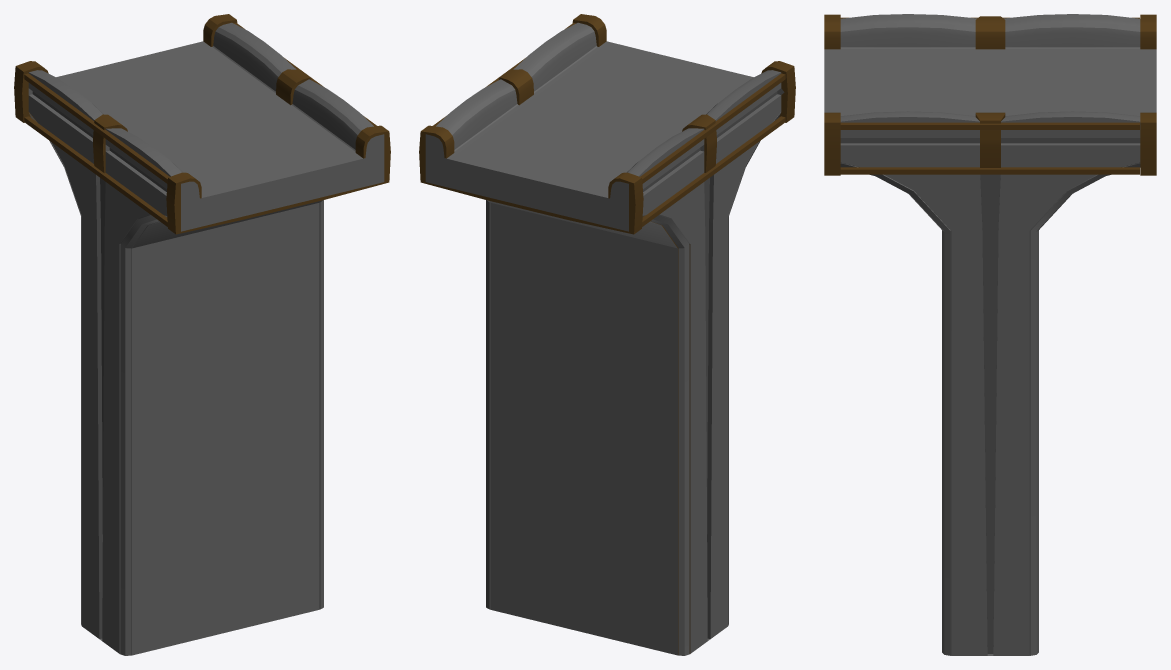
File: mesh_Bridge_with_pillar.fbx
The picture shows the model from 3 angles, left to right: view 1: azimuth 30°, elevation 25°; view 2: azimuth 150°, elevation 25°; view 3: azimuth 270°, elevation 25°; orthographic projection. The views are drawn at different scales.
Visible parts, largest first — view 1: Bridge_with_pillar; view 2: Bridge_with_pillar; view 3: Bridge_with_pillar.
Part boxes in pixels (x1,y1,x2,y2): Bridge_with_pillar: [14, 14, 390, 655]; Bridge_with_pillar: [419, 14, 795, 655]; Bridge_with_pillar: [824, 14, 1156, 655].
Bounding box in the file's own units: 4710 × 10804 × 6042.
Materials: 1 (1 with a texture image).
